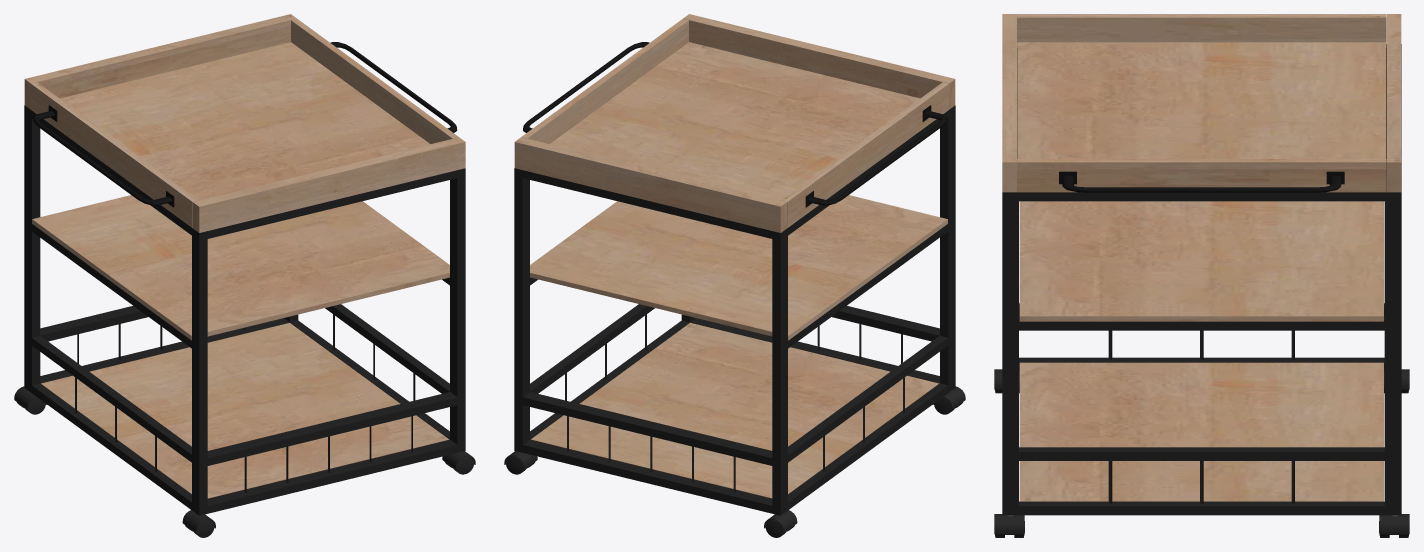
Rendered from sh-scopia-waitress-table-on-wheels.glb.
3 views of the same model, side by side, from view 1: azimuth 30°, elevation 25°; view 2: azimuth 150°, elevation 25°; view 3: azimuth 270°, elevation 25° (orthographic). The views are drawn at different scales.
Parts seen in each view (by area): view 1: Wood, Structure, Handles, Wheels; view 2: Wood, Structure, Handles, Wheels; view 3: Wood, Structure, Handles, Wheels.
Boxes of the visible parts, <box> form: Wood: <box>24,14,465,498</box>; Structure: <box>24,105,465,515</box>; Handles: <box>33,42,457,207</box>; Wheels: <box>14,386,475,537</box>; Wood: <box>514,14,955,498</box>; Structure: <box>514,105,955,515</box>; Handles: <box>523,42,946,207</box>; Wheels: <box>504,386,965,537</box>; Wood: <box>1002,14,1401,501</box>; Structure: <box>1002,44,1401,515</box>; Handles: <box>1059,171,1344,192</box>; Wheels: <box>994,369,1409,537</box>.
Bounding box in the file's own units: 1 × 1 × 1.
Materials: 5 (1 with a texture image).
